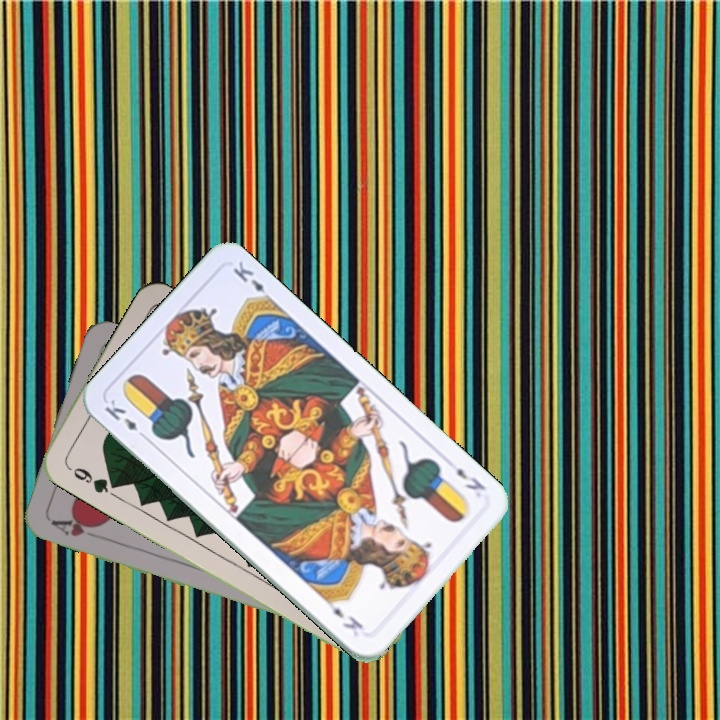EK: (101, 395, 151, 443), (452, 463, 489, 494)
G9: (62, 461, 119, 496)
HA: (47, 512, 104, 542)
